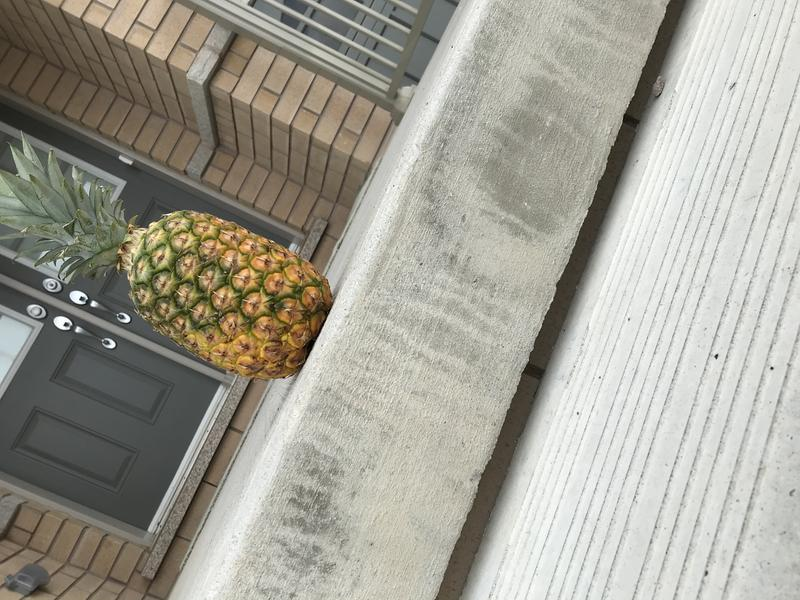pineapple: (1, 127, 346, 378)
